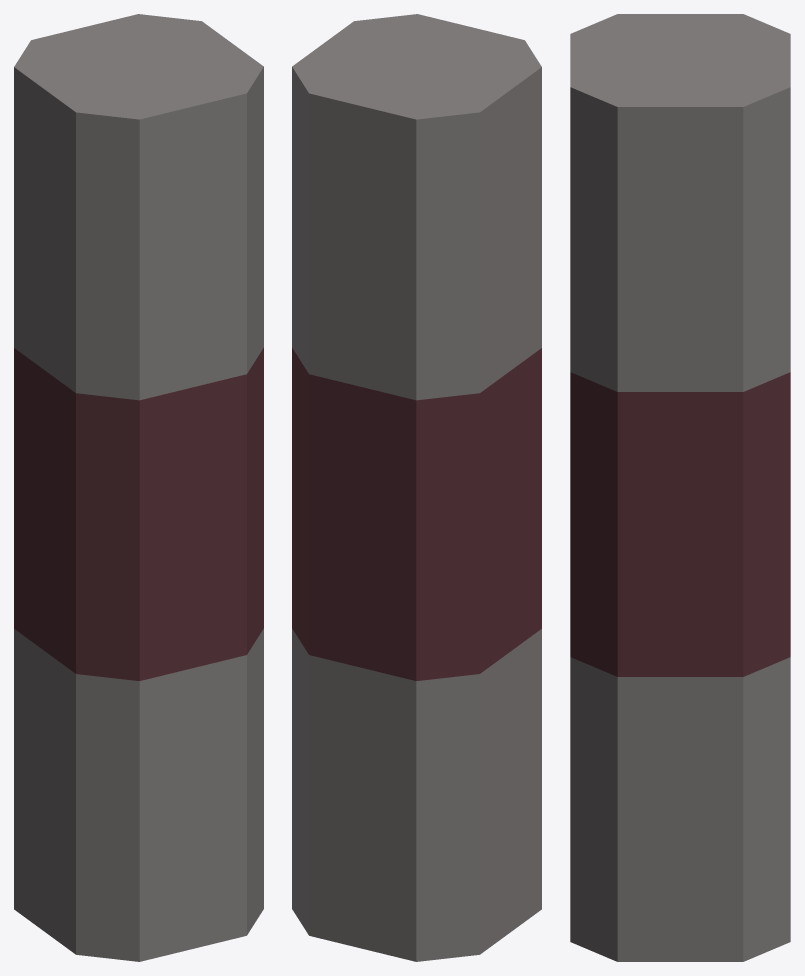
File: scifi-scifi-pillar-stripe.glb
3 views of the same model, side by side, from view 1: azimuth 30°, elevation 25°; view 2: azimuth 150°, elevation 25°; view 3: azimuth 270°, elevation 25° (orthographic).
Visible parts, largest first — view 1: scifi-pillar-stripe; view 2: scifi-pillar-stripe; view 3: scifi-pillar-stripe.
Boxes of the visible parts, left/top/right/bottom form: scifi-pillar-stripe: left=14, top=14, right=263, bottom=961; scifi-pillar-stripe: left=292, top=14, right=541, bottom=961; scifi-pillar-stripe: left=570, top=14, right=790, bottom=961.
Size of the model in its own units: 0.7003 by 3 by 0.7003.
